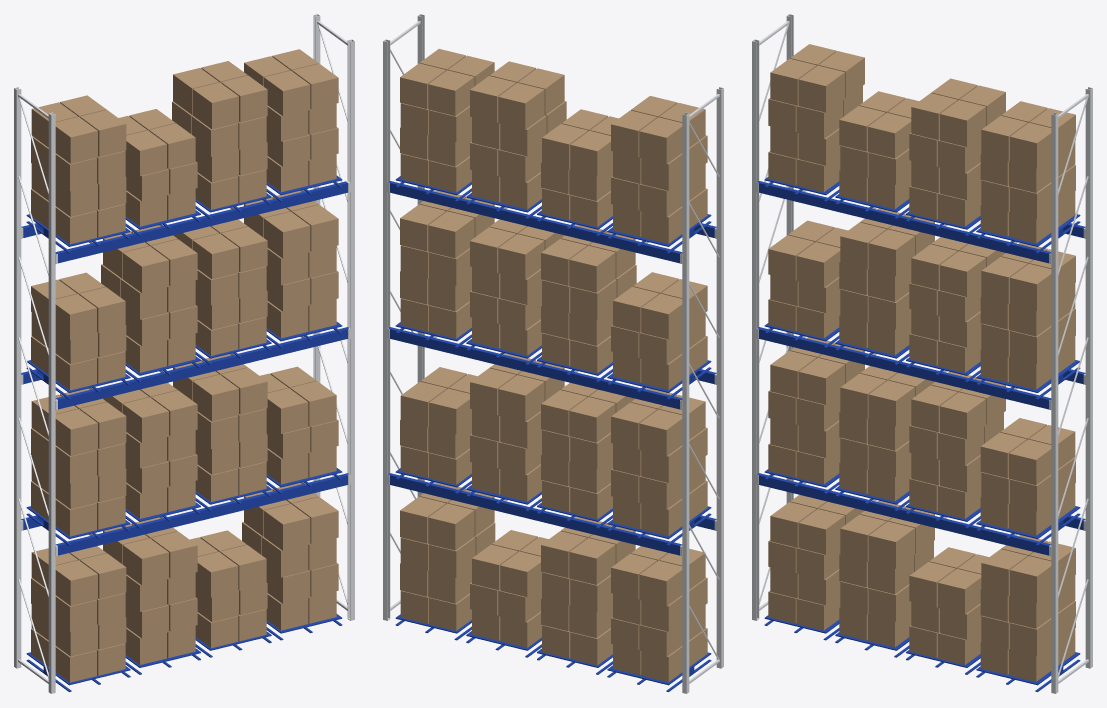
File: SM_MPR_Rack_42D_192_LOD1.fbx
3 views of the same model, side by side, from view 1: azimuth 30°, elevation 25°; view 2: azimuth 150°, elevation 25°; view 3: azimuth 330°, elevation 25° (orthographic).
Parts seen in each view (by area): view 1: SM_MPR_Rack_42D_192_LOD1; view 2: SM_MPR_Rack_42D_192_LOD1; view 3: SM_MPR_Rack_42D_192_LOD1.
Boxes of the visible parts, x1,y1,x2,y2 form: SM_MPR_Rack_42D_192_LOD1: (14, 14, 354, 693); SM_MPR_Rack_42D_192_LOD1: (383, 14, 723, 693); SM_MPR_Rack_42D_192_LOD1: (752, 14, 1092, 693).
Size of the model in its own units: 503 by 122 by 915.
